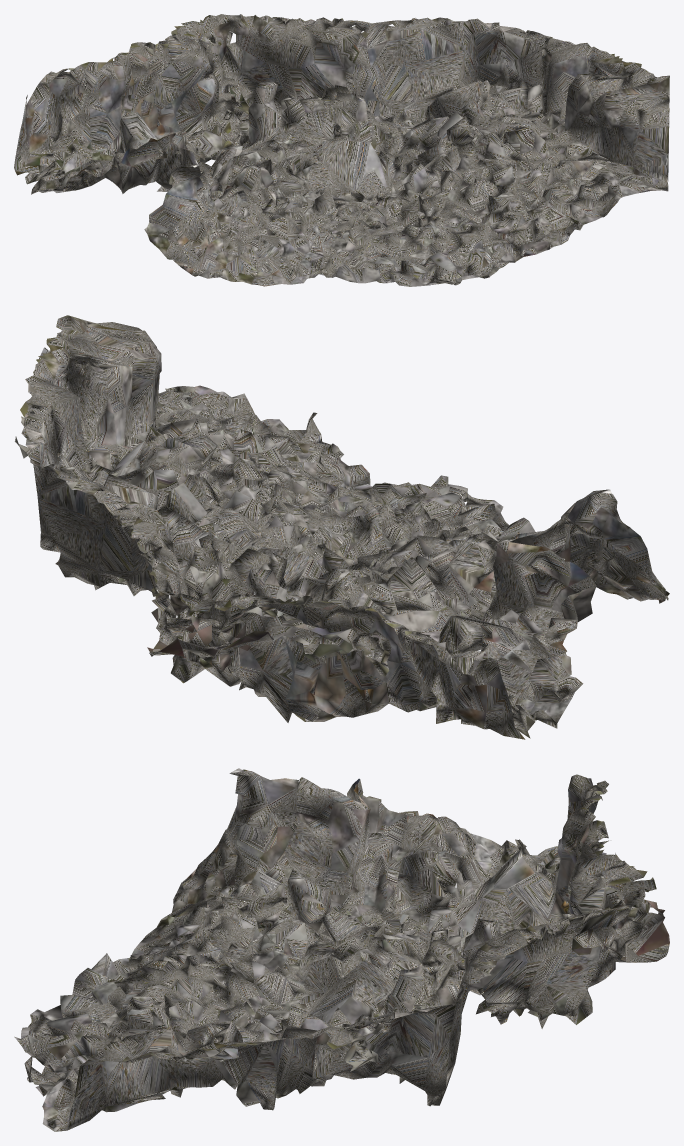
The model's file is boulder-field.zfix-v1.lod0.glb.
3 views of the same model, one above another, from view 1: azimuth 30°, elevation 25°; view 2: azimuth 150°, elevation 25°; view 3: azimuth 270°, elevation 25° (orthographic). The views are drawn at different scales.
Parts seen in each view (by area): view 1: Object_4; view 2: Object_4; view 3: Object_4.
Boxes of the visible parts, x1,y1,x2,y2 form: Object_4: [14, 14, 669, 286]; Object_4: [14, 315, 669, 739]; Object_4: [14, 768, 669, 1131].
Bounding box in the file's own units: 110 × 26.68 × 93.08.
2 materials, 1 textured.
